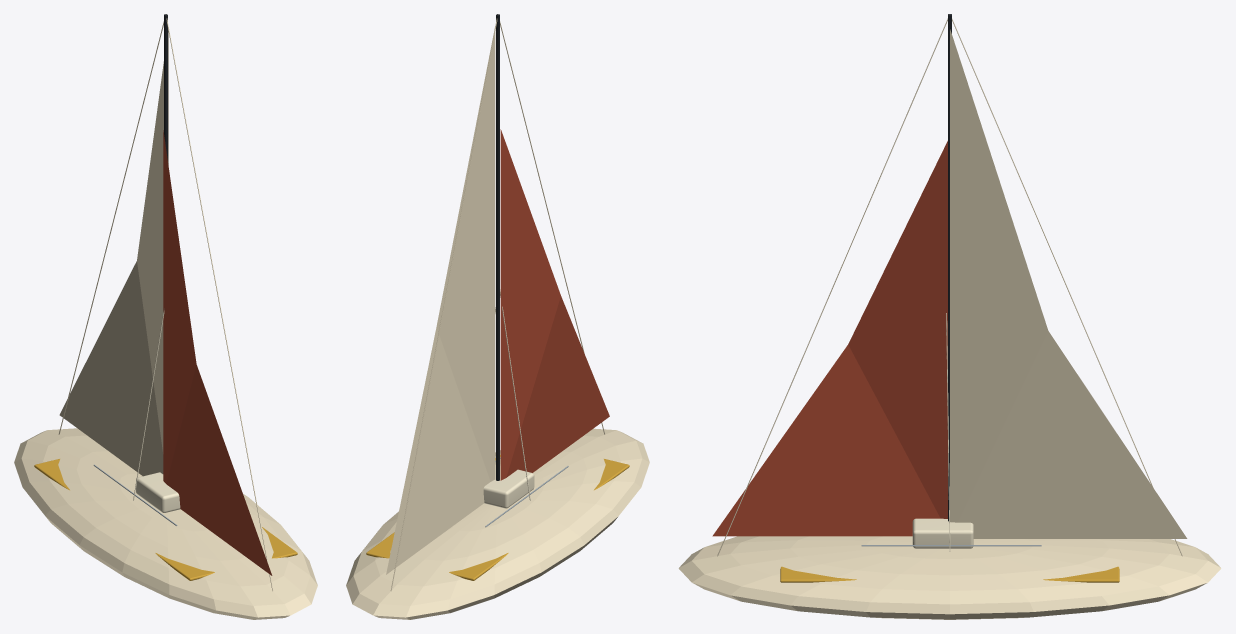
The model's file is sailboat.glb.
The picture shows the model from 3 angles, left to right: view 1: azimuth 30°, elevation 25°; view 2: azimuth 150°, elevation 25°; view 3: azimuth 270°, elevation 25°; orthographic projection. The views are drawn at different scales.
Visible parts, largest first — view 1: ivory, red, white, yellow, ink; view 2: ivory, red, ink, white, yellow; view 3: ivory, red, white, yellow, ink.
Part boxes in pixels (left/top/right/bottom): ivory: left=14, top=14, right=317, bottom=619; red: left=163, top=130, right=272, bottom=575; white: left=133, top=308, right=180, bottom=512; yellow: left=34, top=459, right=297, bottom=580; ink: left=164, top=14, right=167, bottom=160; ivory: left=346, top=14, right=649, bottom=619; red: left=500, top=129, right=609, bottom=480; ink: left=496, top=14, right=499, bottom=480; white: left=483, top=289, right=534, bottom=508; yellow: left=366, top=455, right=629, bottom=580; ivory: left=678, top=18, right=1221, bottom=619; red: left=712, top=141, right=947, bottom=536; white: left=912, top=313, right=973, bottom=551; yellow: left=780, top=566, right=1119, bottom=582; ink: left=948, top=14, right=951, bottom=521.
Bounding box in the file's own units: 6.4 × 18.8 × 16.
